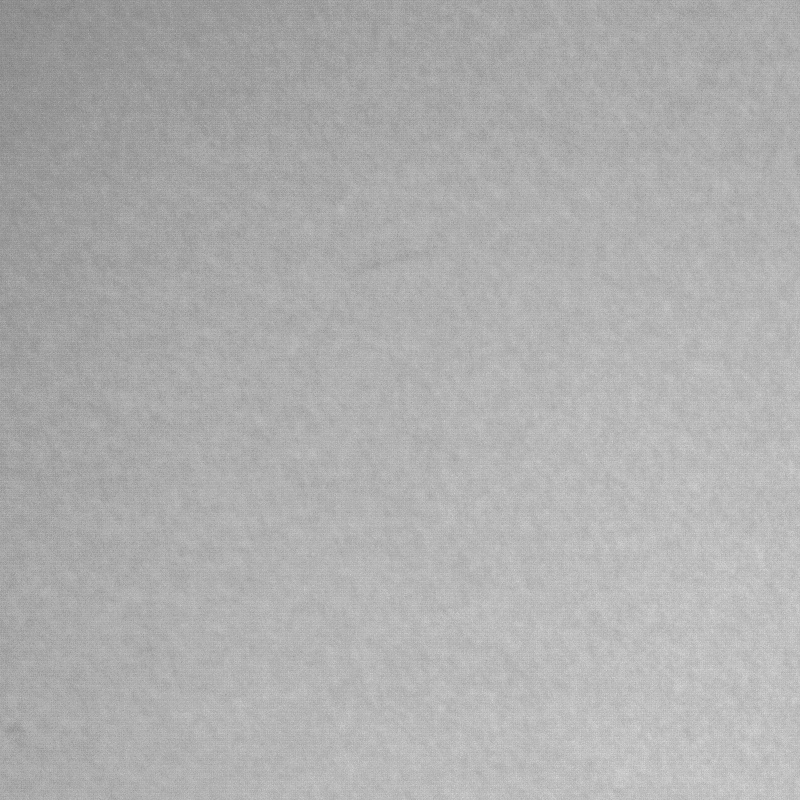defect: (344, 254, 423, 280)
